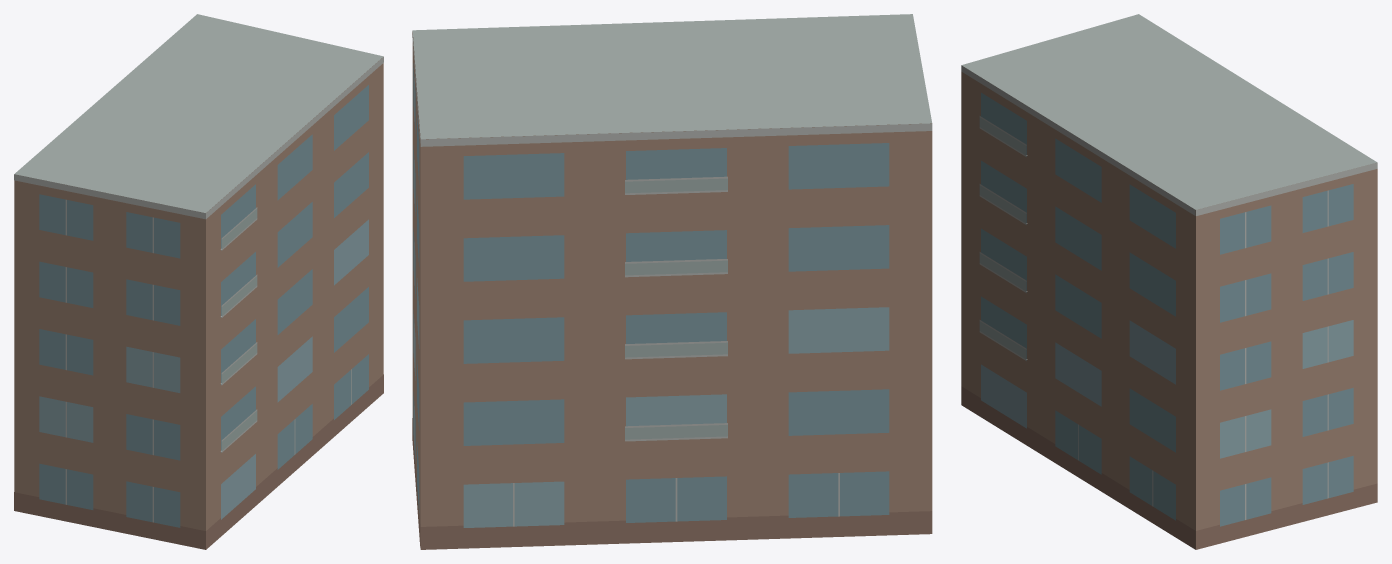
Rendered from survey-upis-32885777.glb.
3 views of the same model, side by side, from view 1: azimuth 30°, elevation 25°; view 2: azimuth 150°, elevation 25°; view 3: azimuth 270°, elevation 25° (orthographic). The views are drawn at different scales.
Parts seen in each view (by area): view 1: survey-upis-32885777.tmp; view 2: survey-upis-32885777.tmp; view 3: survey-upis-32885777.tmp.
Boxes of the visible parts, x1,y1,x2,y2 form: survey-upis-32885777.tmp: (14, 14, 383, 549); survey-upis-32885777.tmp: (412, 14, 932, 549); survey-upis-32885777.tmp: (961, 14, 1377, 549).
Size of the model in its own units: 16.33 by 13.2 by 14.66.
